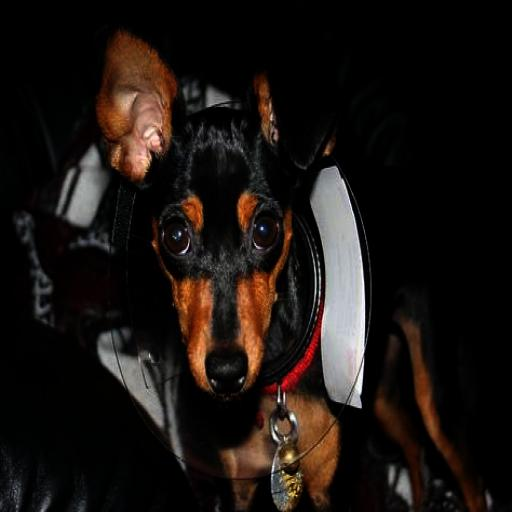dog_face: (80, 20, 327, 415)
